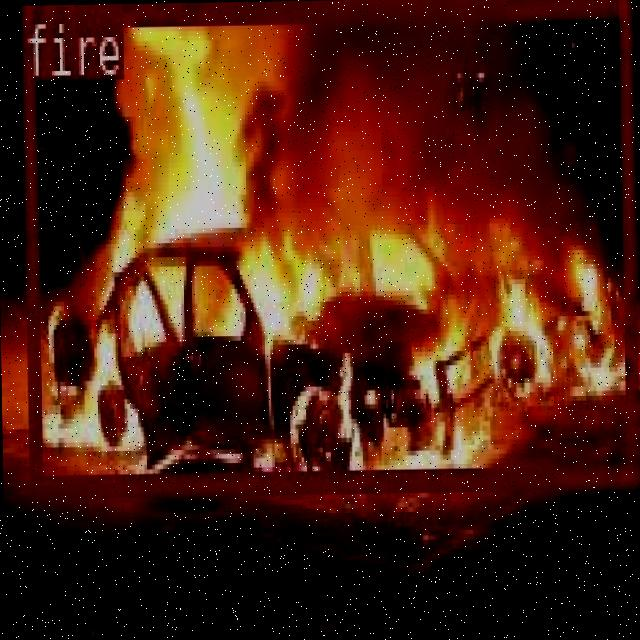fire: (20, 0, 636, 490)
